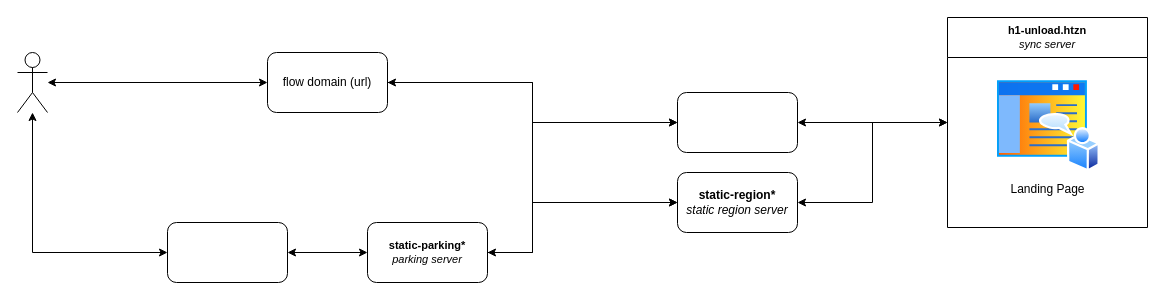
Image size: 1165x300. Some labels were removed from this diagram. Here are the shapes that lost their labels. From the top down, the box of each, then its label:
(16, 52, 48, 112): Client
(676, 92, 798, 152): static*-shared.frnx static common server
(166, 222, 288, 282): parking url
